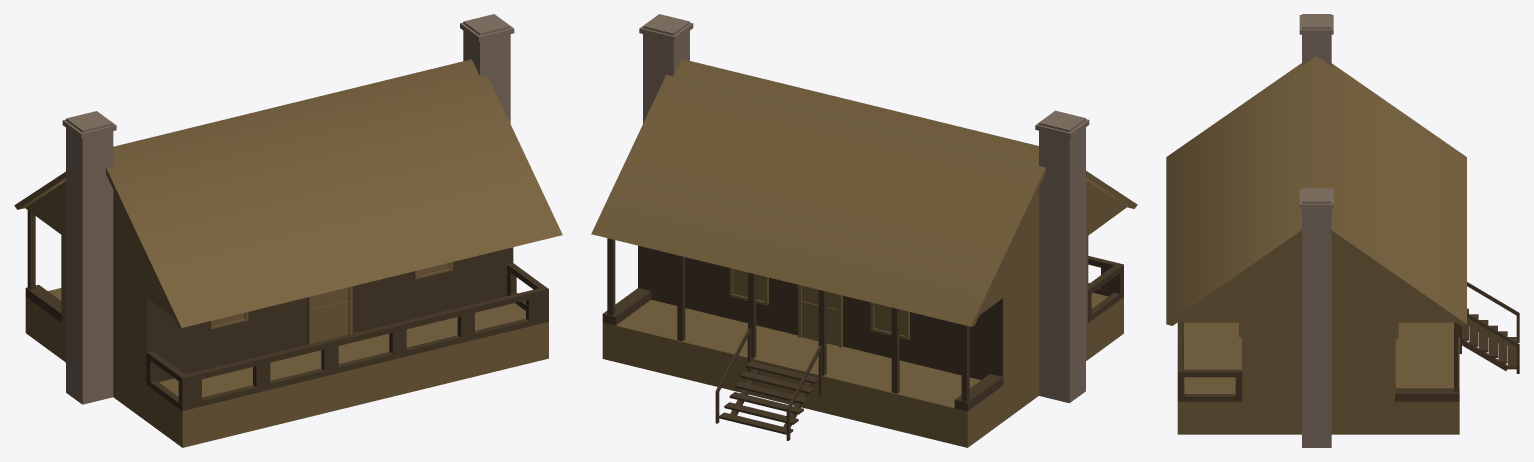
File: forestShed.fbx
The picture shows the model from 3 angles, left to right: view 1: azimuth 30°, elevation 25°; view 2: azimuth 150°, elevation 25°; view 3: azimuth 270°, elevation 25°; orthographic projection. The views are drawn at different scales.
Parts seen in each view (by area): view 1: Object002, Box031, Box027, Box029, Box014, Box019; view 2: Object002, Box031, Box023, Box027, Box012, Box022, Box021, Box013, Box014, Box016, Box020, Box015 (+8 smaller); view 3: Object002, Box031, Box027, Box013, Box012.
Boxes of the visible parts, x1,y1,x2,y2 form: Object002: [14, 59, 562, 447]; Box031: [62, 14, 514, 404]; Box027: [146, 263, 548, 411]; Box029: [307, 286, 352, 344]; Box014: [25, 284, 61, 322]; Box019: [27, 210, 35, 289]; Object002: [591, 59, 1137, 447]; Box031: [639, 14, 1089, 403]; Box023: [798, 284, 842, 347]; Box027: [1088, 256, 1123, 322]; Box012: [715, 328, 822, 440]; Box022: [870, 302, 909, 339]; Box021: [729, 268, 768, 305]; Box013: [602, 288, 651, 325]; Box014: [954, 374, 1003, 411]; Box016: [677, 255, 685, 341]; Box020: [891, 307, 899, 393]; Box015: [607, 238, 615, 315]; Object002: [1166, 56, 1466, 434]; Box031: [1299, 14, 1333, 447]; Box027: [1177, 322, 1242, 401]; Box013: [1395, 388, 1459, 401]; Box012: [1458, 282, 1519, 373].
Size of the model in its own units: 948 by 584 by 747.
